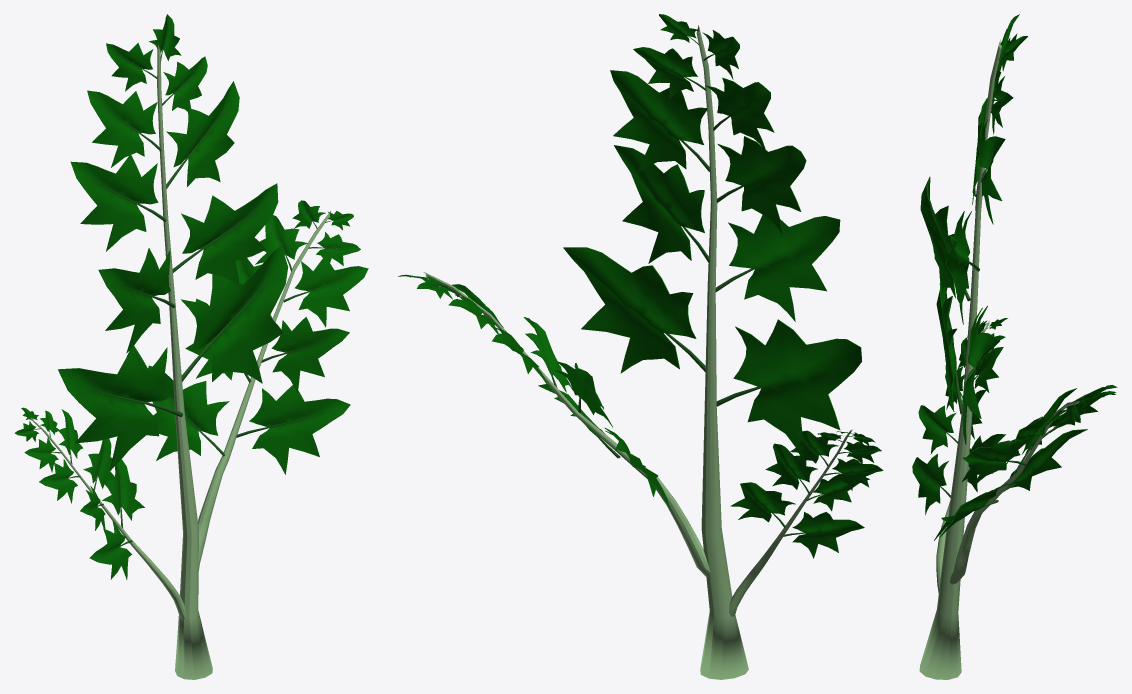
The model's file is carrot_st2.fbx.
The picture shows the model from 3 angles, left to right: view 1: azimuth 30°, elevation 25°; view 2: azimuth 150°, elevation 25°; view 3: azimuth 270°, elevation 25°; orthographic projection. The views are drawn at different scales.
Visible parts, largest first — view 1: st4_polySurface21; view 2: st4_polySurface21; view 3: st4_polySurface21.
Part boxes in pixels (x1,y1,x2,y2): st4_polySurface21: (14,14,368,679); st4_polySurface21: (398,14,883,679); st4_polySurface21: (912,14,1117,679).
Size of the model in its own units: 1.79 by 2.76 by 0.7981.
